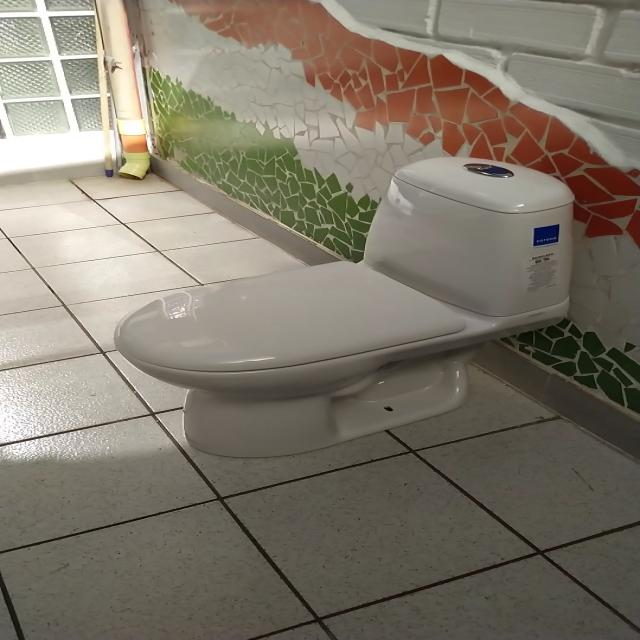toilet: (112, 155, 574, 459)
